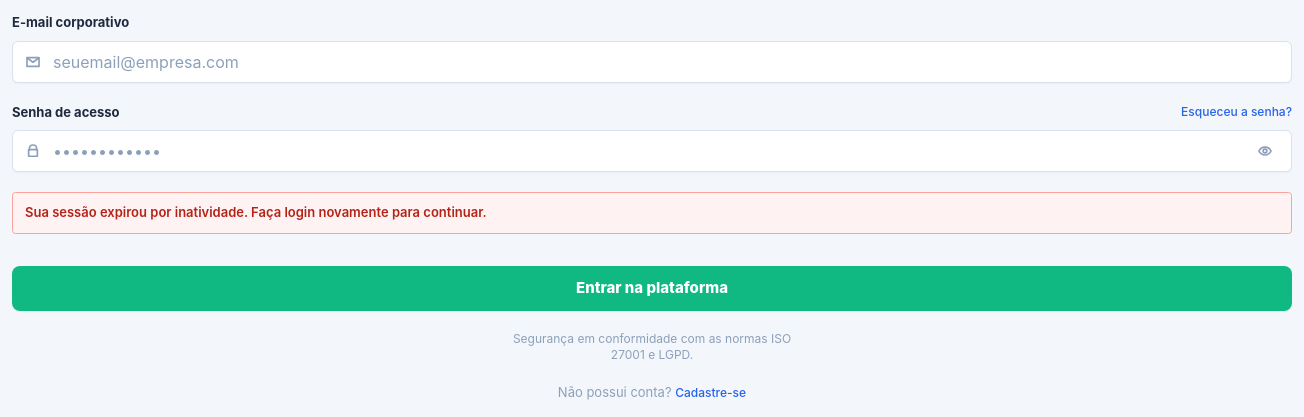
Test: LoginForm session notice › drops the notice as soon as the user tries to sign in again
This screenshot has width=1304, height=417.
Type "admin@empresa.com" into the field labelled "E-mail corporativo".
click(667, 62); type("admin@empresa.com")  # box [53,50,1281,74]
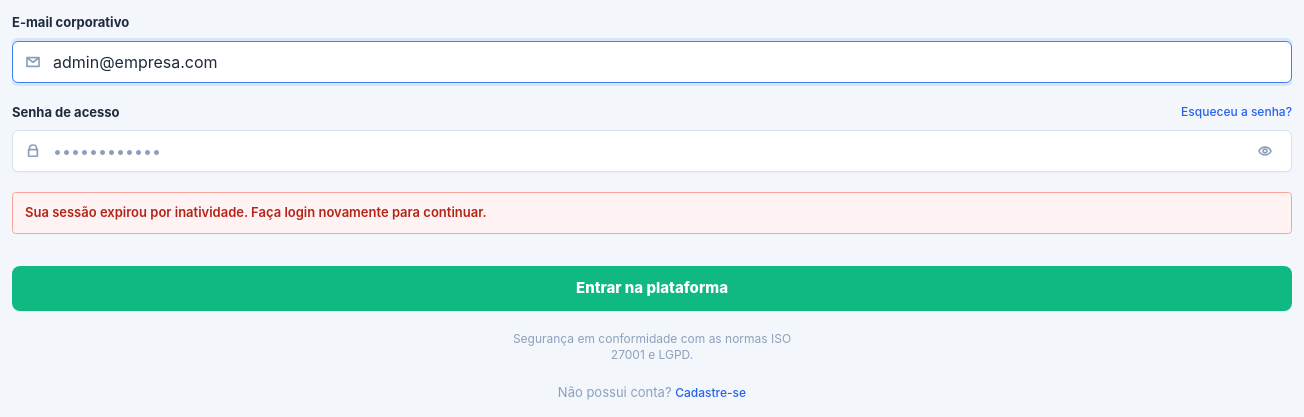
Type "Senha@1234" into the password field labelled "Senha de acesso".
click(646, 151); type("Senha@1234")  # box [53,139,1239,163]
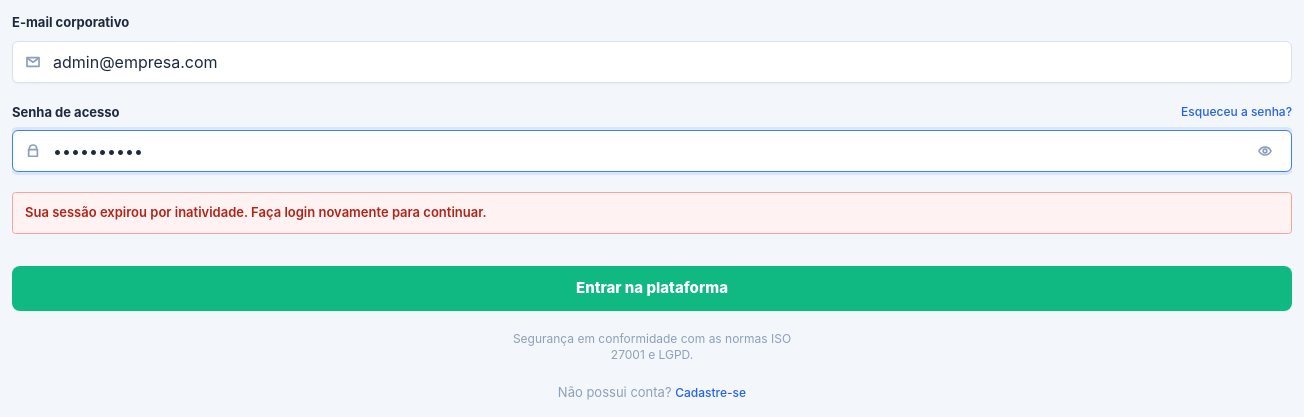
Click the button "Entrar na plataforma".
click(652, 288)  # box [12,266,1292,310]
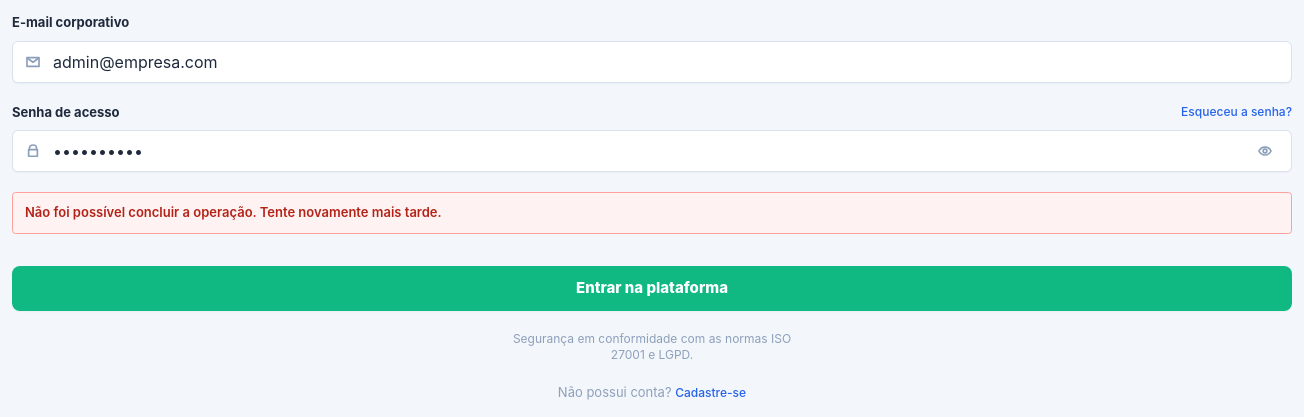
Expected: the message reads "Não foi possível concluir a operação. Tente novamente mais tarde.", [25,204,442,220]
